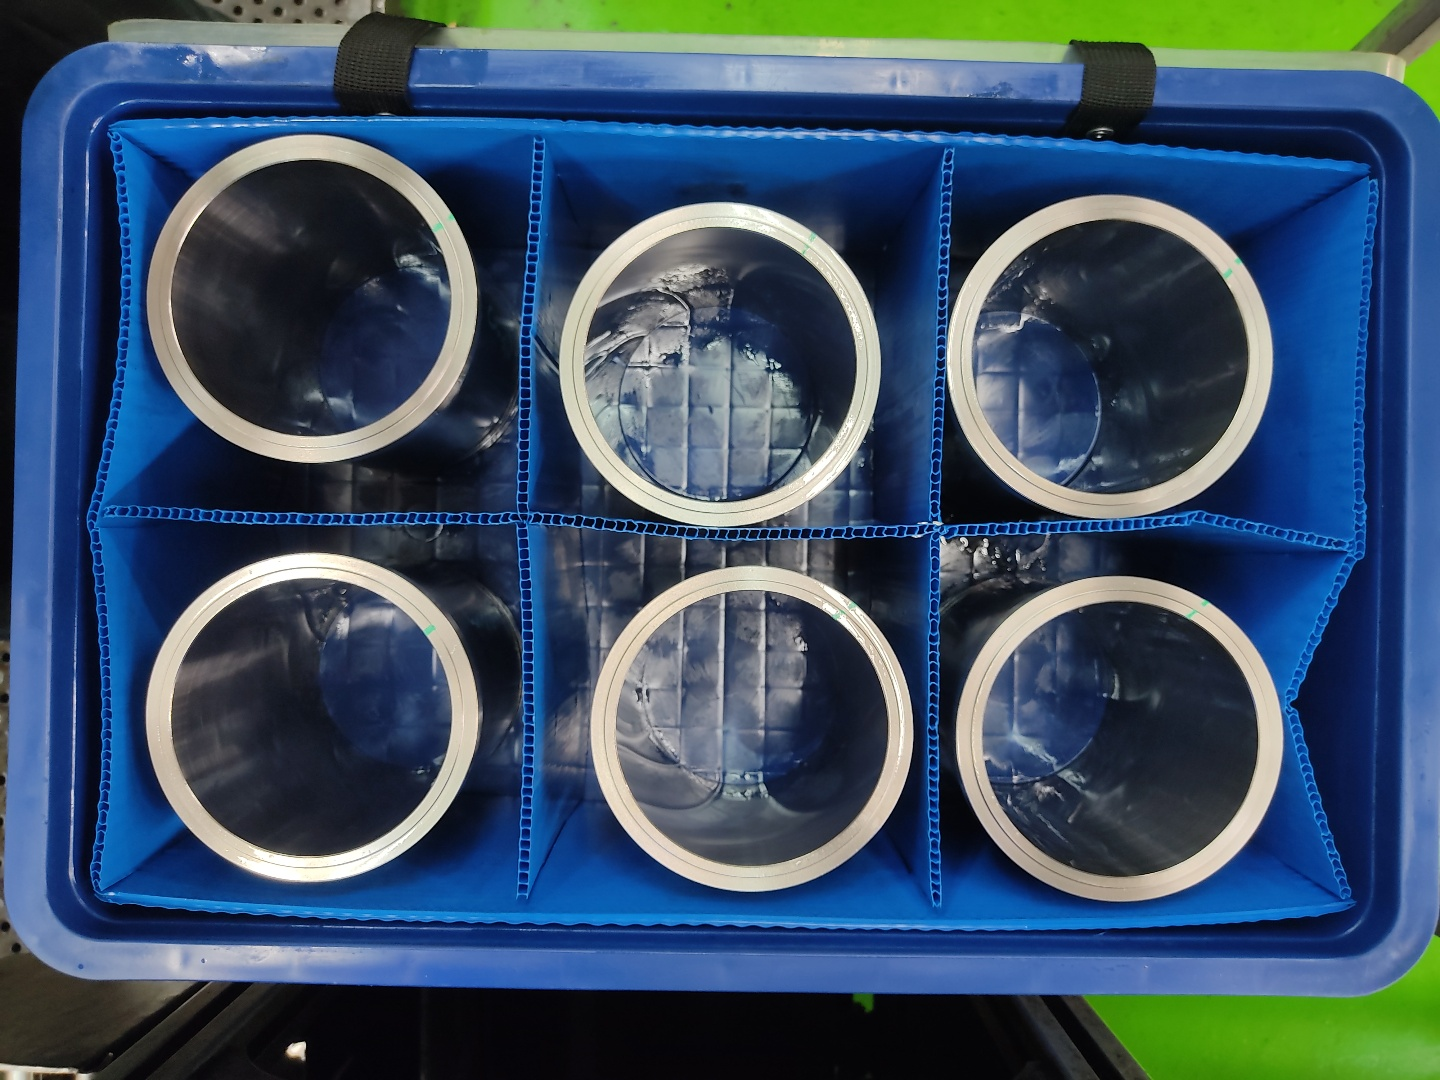cylinder: (139, 546, 485, 887), (143, 127, 480, 471), (952, 567, 1288, 910), (942, 192, 1277, 524), (587, 562, 917, 898), (556, 199, 886, 532)
